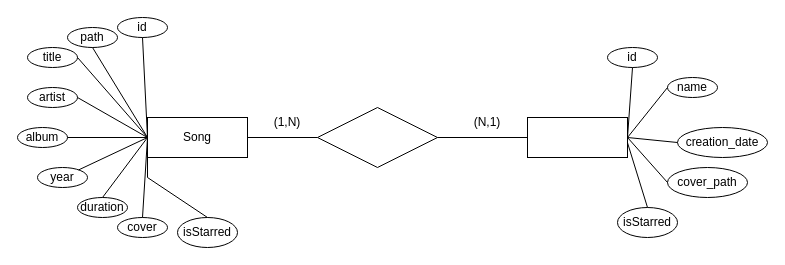
Some shapes in this 785 by 265 pixel diagram are drawn without their labels. The shapes that lost their labels are listed below. From the top down, each one's centre as x and y in pixels, then its label:
the point at 377,137: Contiene
the point at 577,137: Playlist
